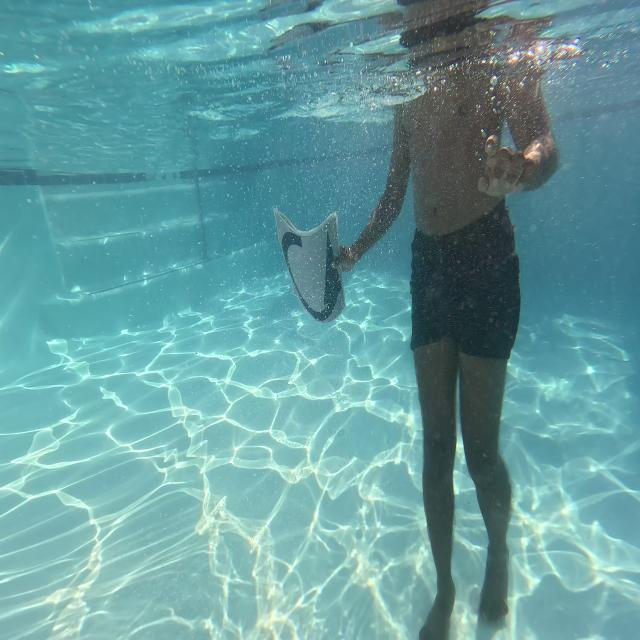blue_side: (275, 213, 349, 323)
